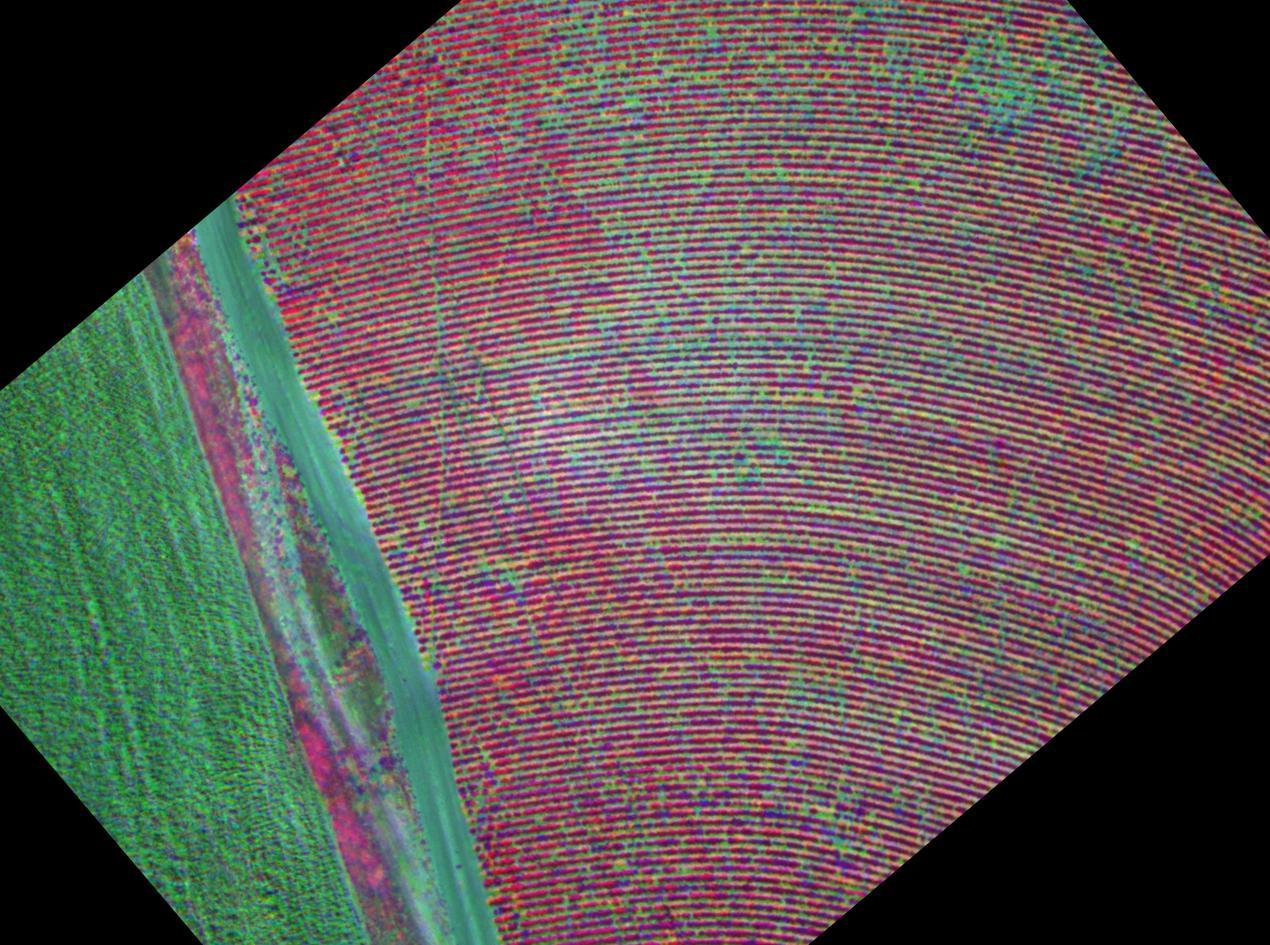dc: (1006, 92, 1011, 100), (631, 99, 637, 105), (709, 28, 714, 35), (856, 9, 861, 15), (855, 386, 859, 391)
